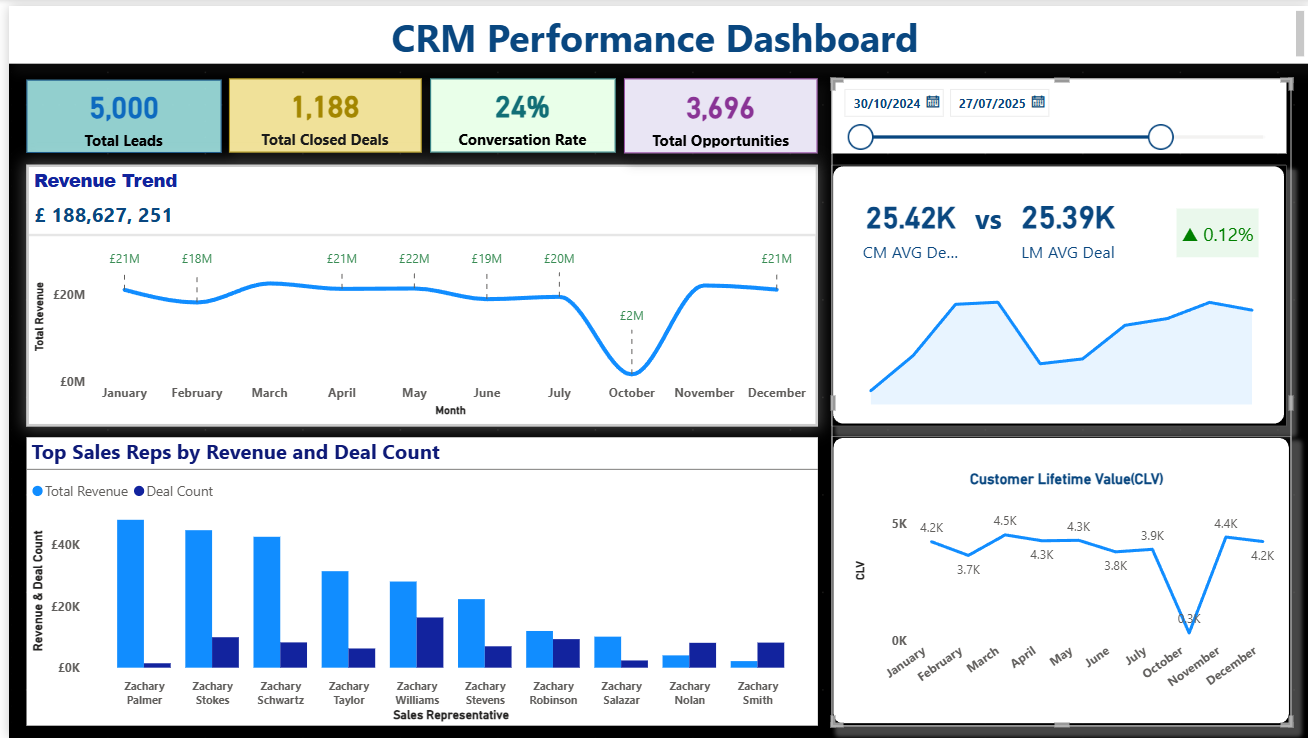

This screenshot's page, from the dashboard's own definition file:
{"tool":"powerbi","page":{"name":"Page 1","canvas":[1280,720],"ordinal":0},"visuals":[{"type":"textbox","box":[0,0,1280,57],"z":0},{"type":"shape","box":[809.8,156.3,448,257.2],"z":0,"group":"g1"},{"type":"shape","box":[810,423,452.9,285.5],"z":0,"group":"g2"},{"type":"card","fields":{"Values":["crm_database deals_tbl.Total Closed Deals"]},"box":[216.6,71.4,189.5,72.6],"z":1000},{"type":"card","fields":{"Values":["Avg(crm_database deals_tbl.deal_amount)"]},"box":[835.8,176.8,110.8,81.2],"z":1000,"group":"g1"},{"type":"card","fields":{"Values":["crm_database contacts_tbl.Total Leads"]},"box":[16.7,72.3,192,72.3],"z":2000},{"type":"shape","box":[1148.9,199,80.9,48],"z":2000,"group":"g1"},{"type":"card","fields":{"Values":["crm_database deals_tbl.Conversation Rate"]},"box":[414.8,71.4,182.2,72.6],"z":3000},{"type":"areaChart","title":"vs Last Month Deal Amount","fields":{"Category":["crm_database deals_tbl.deal_created_date.Variation.Date Hierarchy.Month"],"Y":["Avg(crm_database deals_tbl.deal_amount)"]},"box":[827.6,266.7,418.7,130.5],"z":3000,"group":"g1"},{"type":"lineChart","title":"Customer Lifetime Value(CLV)","fields":{"Category":["crm_database deals_tbl.deal_created_date.Variation.Date Hierarchy.Month"],"Y":["crm_database deals_tbl.CLV"]},"box":[828.5,456.1,425.8,235.1],"z":3000,"group":"g2"},{"type":"lineChart","title":"Revenue Trend","fields":{"Category":["crm_database deals_tbl.deal_created_date.Variation.Date Hierarchy.Month"],"Y":["crm_database deals_tbl.Total Revenue"]},"box":[17.2,156.3,779.1,257.2],"z":4000},{"type":"card","fields":{"Values":["crm_database deals_tbl.LM AVG Deal"]},"box":[987.9,175.9,109.1,82.4],"z":4000,"group":"g1"},{"type":"card","fields":{"Values":["crm_database deals_tbl.Total Opportunities"]},"box":[605.5,71.4,190.8,73.8],"z":5000},{"type":"textbox","box":[939.8,190.9,48.1,44.9],"z":5000,"group":"g1"},{"type":"clusteredColumnChart","title":"Top Sales Reps by Revenue and Deal Count","fields":{"Category":["crm_database deals_tbl.deals_sales_rep"],"Y":["crm_database deals_tbl.Total Revenue","Sum(crm_database deals_tbl.deal_id)"]},"box":[16.7,424.3,779.1,283.8],"z":6000},{"type":"group","id":"g1","title":"Group 1","box":[809.8,156.3,448,257.2],"z":7000},{"type":"group","id":"g2","title":"Group 1","box":[810,70.9,452.9,637.6],"z":8000},{"type":"slicer","fields":{"Values":["crm_database deals_tbl.deal_created_date"]},"box":[810,70.9,448,73.8],"z":12004,"group":"g2"}]}

Visuals, with their boxes in screenshot pixels (x1, y1, x2, y2), scaled from the page's 1280x720 canvas onto the 1308x738 screenshot:
textbox: 0 0 1307 58
shape: 828 160 1285 424
shape: 828 434 1291 726
card - crm_database deals_tbl.Total Closed Deals: 221 73 415 148
card - Avg(crm_database deals_tbl.deal_amount): 854 181 967 264
card - crm_database contacts_tbl.Total Leads: 17 74 213 148
shape: 1174 204 1257 253
card - crm_database deals_tbl.Conversation Rate: 424 73 610 148
"vs Last Month Deal Amount" areaChart: 846 273 1274 407
"Customer Lifetime Value(CLV)" lineChart: 847 468 1282 708
"Revenue Trend" lineChart: 18 160 814 424
card - crm_database deals_tbl.LM AVG Deal: 1010 180 1121 265
card - crm_database deals_tbl.Total Opportunities: 619 73 814 149
textbox: 960 196 1010 242
"Top Sales Reps by Revenue and Deal Count" clusteredColumnChart: 17 435 813 726
"Group 1" group: 828 160 1285 424
"Group 1" group: 828 73 1291 726
slicer - crm_database deals_tbl.deal_created_date: 828 73 1286 148
